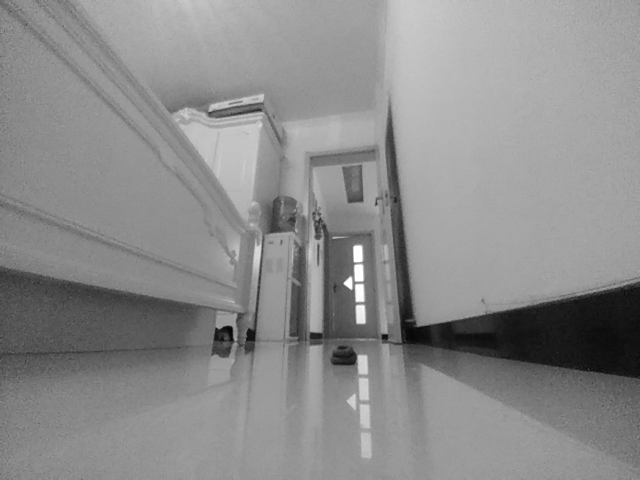pet feces: (329, 345, 359, 368)
